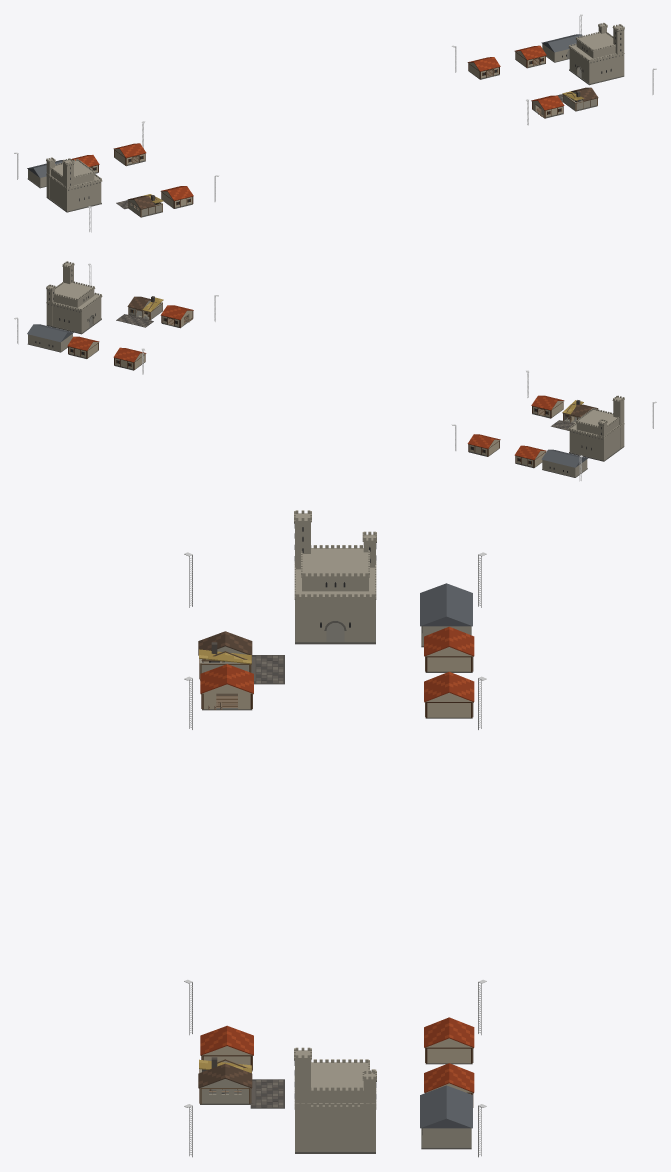
Rendered from castle_interiors.fbx.
3 views of the same model, one above another, from view 1: azimuth 30°, elevation 25°; view 2: azimuth 150°, elevation 25°; view 3: azimuth 270°, elevation 25° (orthographic). The views are drawn at different scales.
Visible parts, largest first — view 1: B_Keep, A_Keep, B_Barracks, A_Barracks, B_Blacksmith_Forge, A_Blacksmith_Forge, B_Carpenter_Roof; view 2: B_Keep, A_Keep, A_Barracks, B_Barracks, B_Blacksmith_Forge_Roof; view 3: A_Keep, B_Keep, B_Barracks, A_Barracks, B_Carpenter_Roof, A_Carpenter_Roof, A_Blacksmith_Forge_Roof, B_Blacksmith_Forge_Roof, B_Fletcher_Roof, A_Fletcher_Roof, A_Alchemist_Roof, B_Alchemist_Roof (+3 smaller).
Part boxes in pixels (bbox=[...]): B_Keep: bbox=[568, 22, 624, 85]; A_Keep: bbox=[46, 157, 102, 212]; B_Barracks: bbox=[541, 34, 583, 62]; A_Barracks: bbox=[27, 160, 65, 188]; B_Blacksmith_Forge: bbox=[563, 91, 597, 111]; A_Blacksmith_Forge: bbox=[128, 195, 162, 217]; B_Carpenter_Roof: bbox=[531, 95, 564, 110]; B_Keep: bbox=[46, 261, 102, 334]; A_Keep: bbox=[568, 395, 624, 461]; A_Barracks: bbox=[541, 449, 588, 477]; B_Barracks: bbox=[27, 324, 73, 352]; B_Blacksmith_Forge_Roof: bbox=[127, 296, 163, 312]; A_Keep: bbox=[294, 510, 376, 644]; B_Keep: bbox=[294, 1047, 376, 1153]; B_Barracks: bbox=[420, 1085, 472, 1149]; A_Barracks: bbox=[420, 583, 472, 647]; B_Carpenter_Roof: bbox=[200, 1025, 253, 1055]; A_Carpenter_Roof: bbox=[200, 664, 253, 694]; A_Blacksmith_Forge_Roof: bbox=[198, 631, 252, 664]; B_Blacksmith_Forge_Roof: bbox=[198, 1059, 252, 1088]; B_Fletcher_Roof: bbox=[424, 1017, 474, 1048]; A_Fletcher_Roof: bbox=[424, 671, 474, 702]; A_Alchemist_Roof: bbox=[424, 626, 474, 656]; B_Alchemist_Roof: bbox=[424, 1063, 474, 1093].
Bounding box in the file's own units: 728 × 60.6 × 168.
